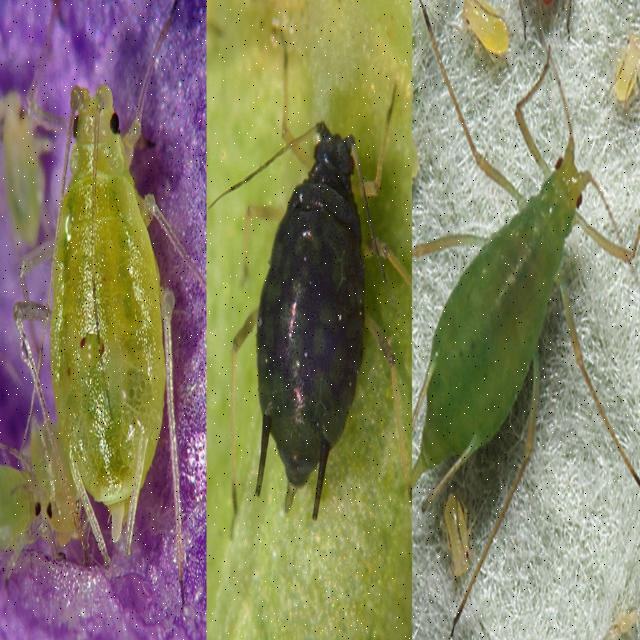Aphids: (414, 82, 640, 599), (15, 31, 188, 564), (227, 71, 390, 576)
